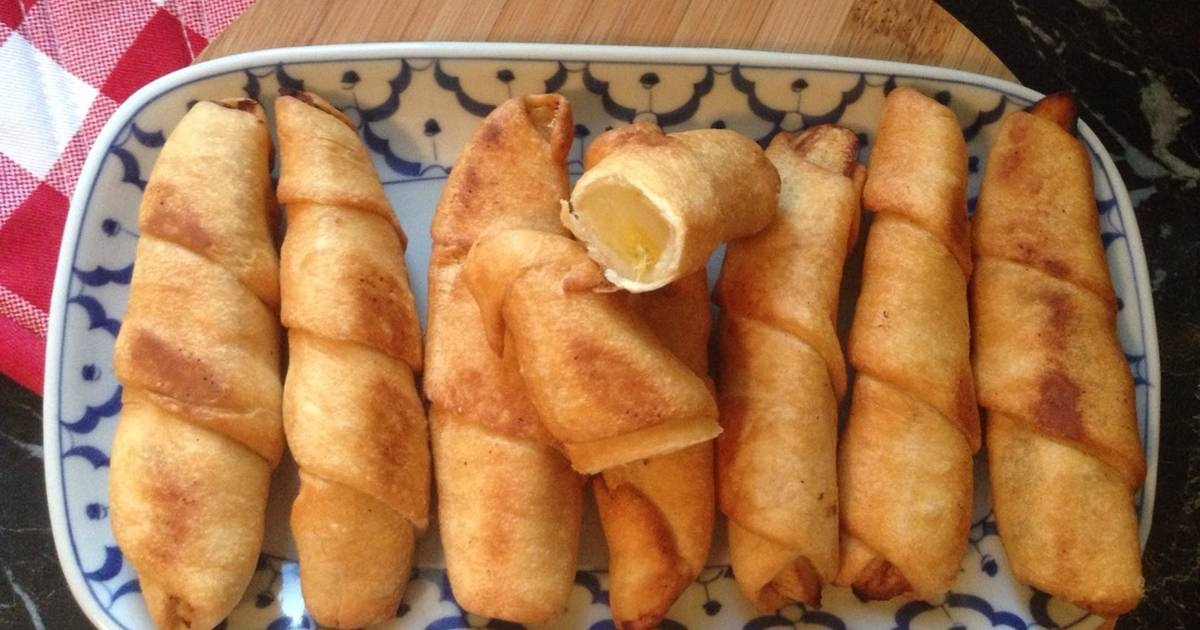pisang_molen: (105, 92, 283, 630), (973, 90, 1147, 619), (264, 93, 432, 628), (841, 81, 979, 608), (718, 125, 862, 605)
